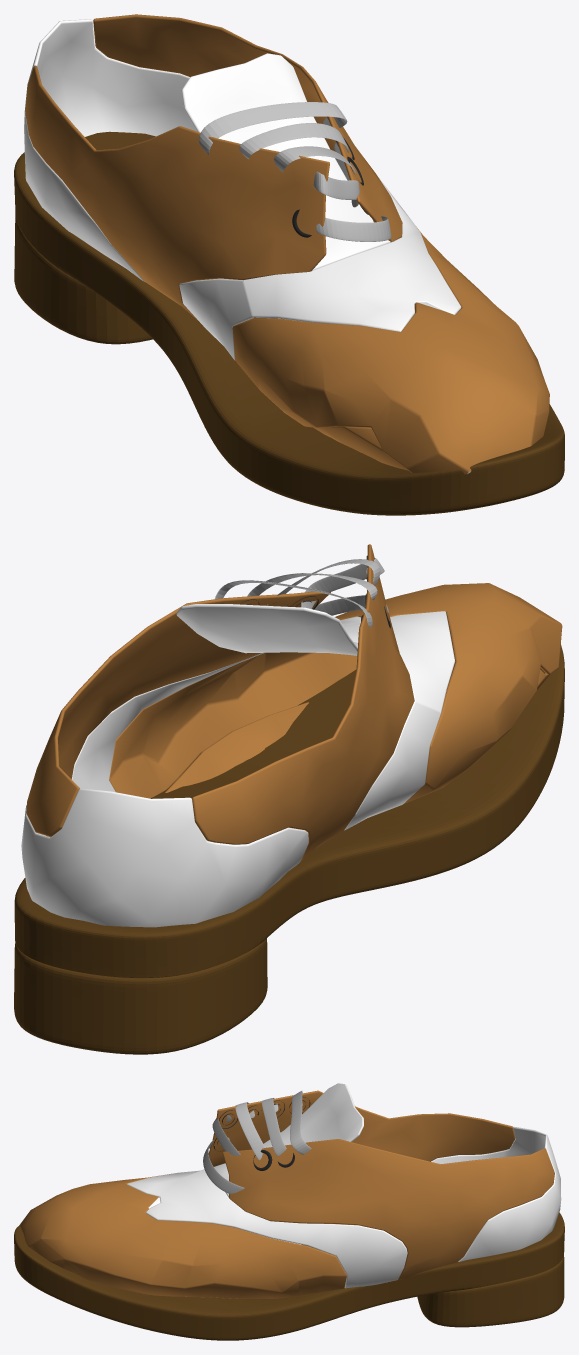
Rendered from za2in2izquierda.fbx.
3 views of the same model, one above another, from view 1: azimuth 30°, elevation 25°; view 2: azimuth 150°, elevation 25°; view 3: azimuth 270°, elevation 25° (orthographic). The views are drawn at different scales.
Parts seen in each view (by area): view 1: zapato2, Plane, Plane.004, Plane.003, Plane.005, Plane.002, Plane.001; view 2: zapato2, Plane, Plane.002, Plane.003, Plane.005, Plane.004; view 3: zapato2, Plane, Plane.001, Plane.003, Plane.004, Plane.005, Plane.002.
Part boxes in pixels (x1,y1,x2,y2): zapato2: (24,14,549,474); Plane: (14,131,564,515); Plane.004: (198,102,347,154); Plane.003: (239,123,348,159); Plane.005: (316,216,391,241); Plane.002: (313,171,359,207); Plane.001: (273,146,356,174); zapato2: (21,544,562,927); Plane: (14,626,564,1054); Plane.002: (301,558,384,608); Plane.003: (247,573,377,610); Plane.005: (314,595,388,615); Plane.004: (215,580,372,627); zapato2: (19,1083,561,1298); Plane: (14,1209,564,1340); Plane.001: (235,1102,265,1160); Plane.003: (261,1098,286,1156); Plane.004: (290,1091,311,1154); Plane.005: (203,1137,244,1193); Plane.002: (212,1115,240,1155).
Bounding box in the file's own units: 169 × 176 × 447.
